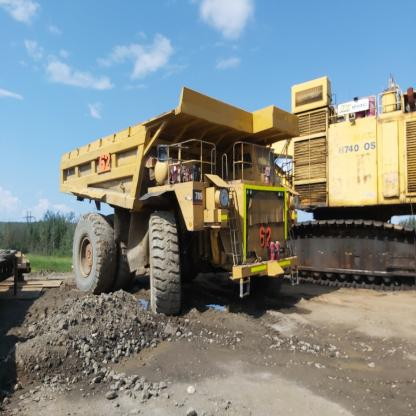dump_truck: (46, 84, 302, 319)
